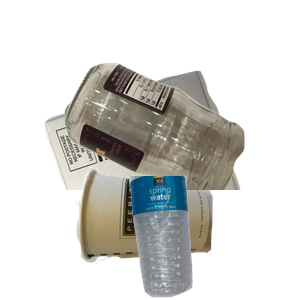glass: (62, 60, 300, 240)
paper: (42, 68, 275, 248)
plastic: (127, 176, 300, 300)
trash: (73, 164, 278, 300)
